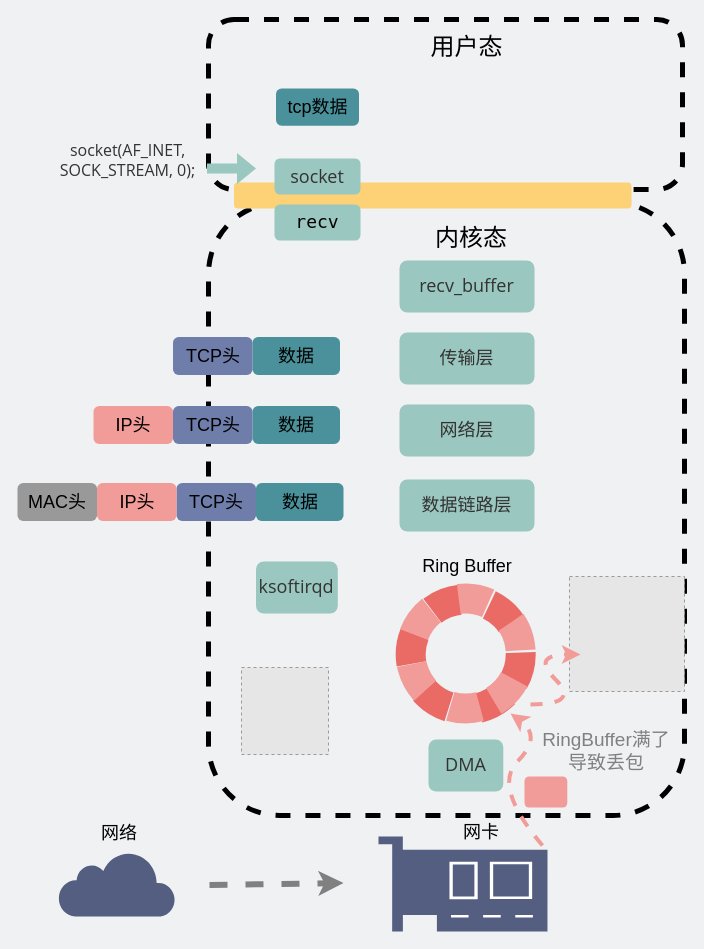
This 704x949 diagram has some shape labels left out. Grey dashed boxes stand in for pictures. Each missing label, with the centre of its shape:
"data" belongs at point 545,791.
"socket接口" belongs at point 432,195.
